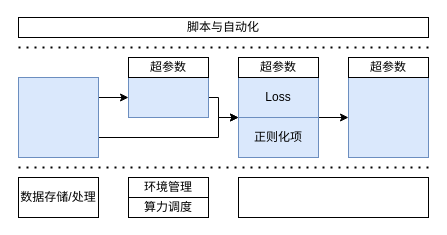
Some shapes in this 447 by 235 pixel diagram are drawn without their labels. The shapes that lost their labels are listed below. From the top down, each one's box as (x1, y1, x2, y2) in pixels, then its label:
(18, 76, 98, 158): 数据集
(128, 76, 208, 118): 模型
(348, 76, 428, 158): 优化算法
(238, 176, 428, 218): 训练日志与监控
